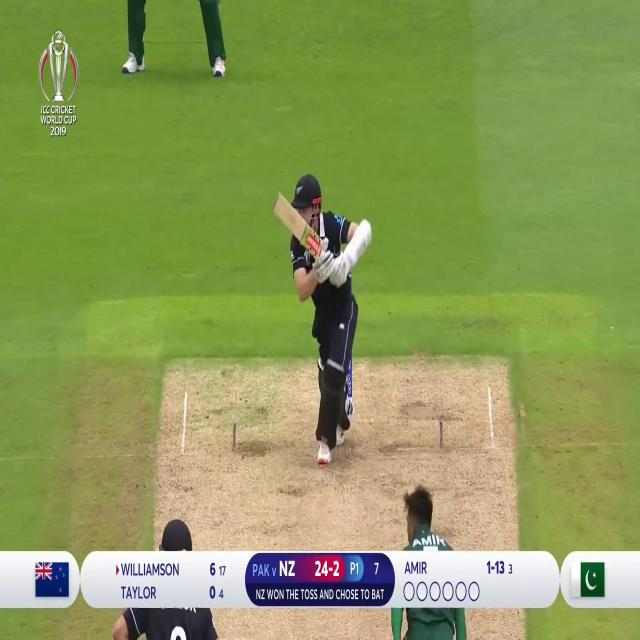bat: (272, 194, 320, 258)
toe: (273, 195, 280, 212)
